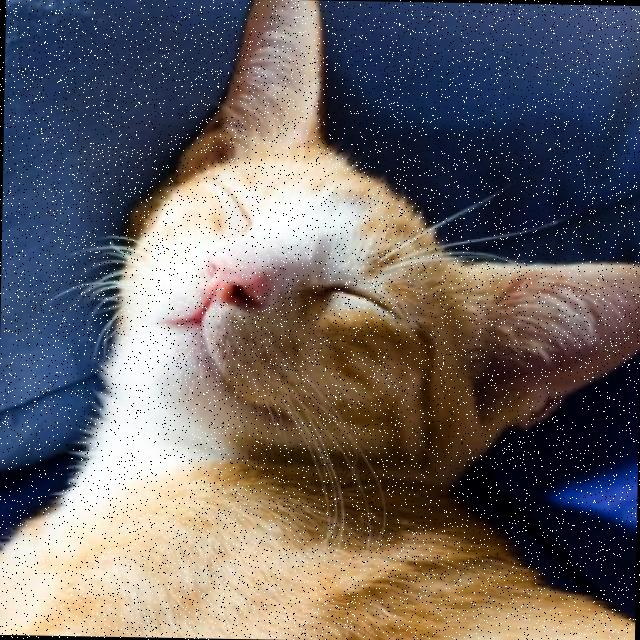Happy: (130, 146, 433, 460)
